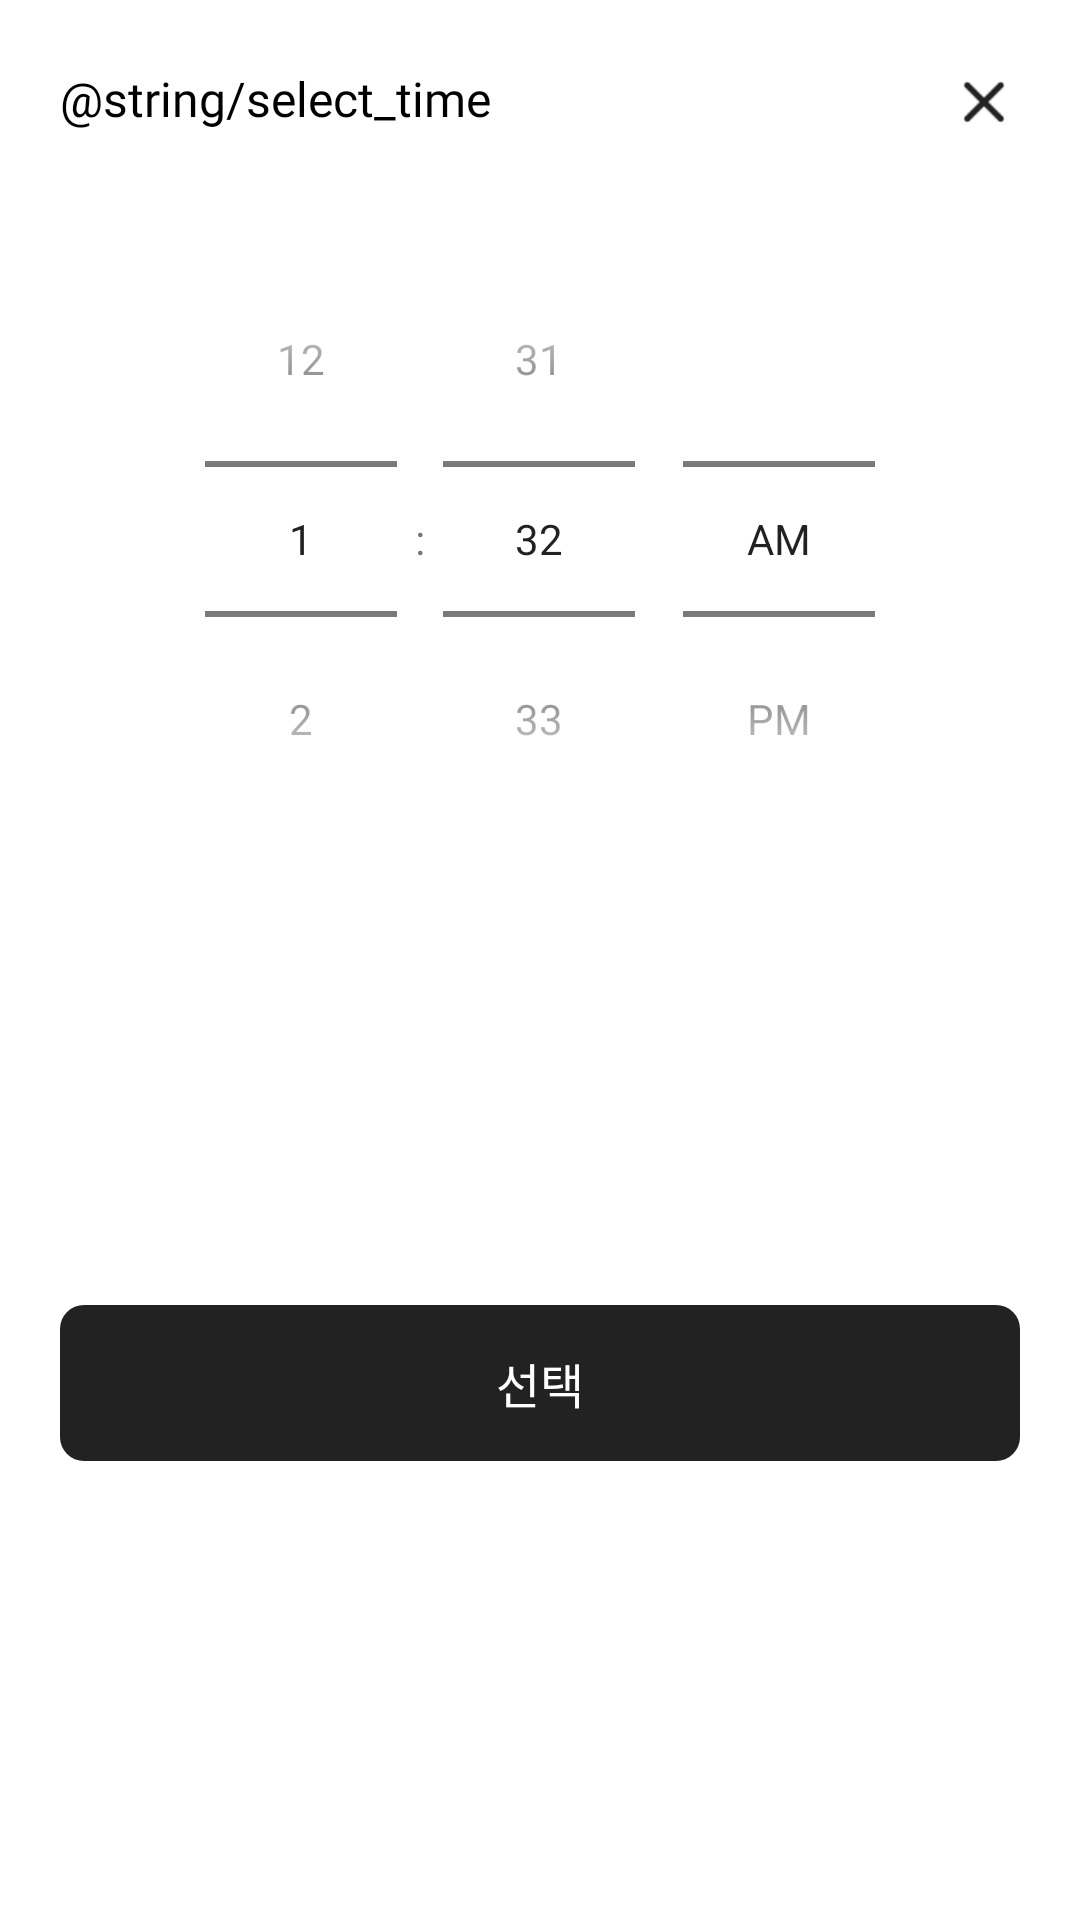

Screen size 1080px x 1920px. Icon name, then its center in pixels as [x,y]:
close: [984,102]
